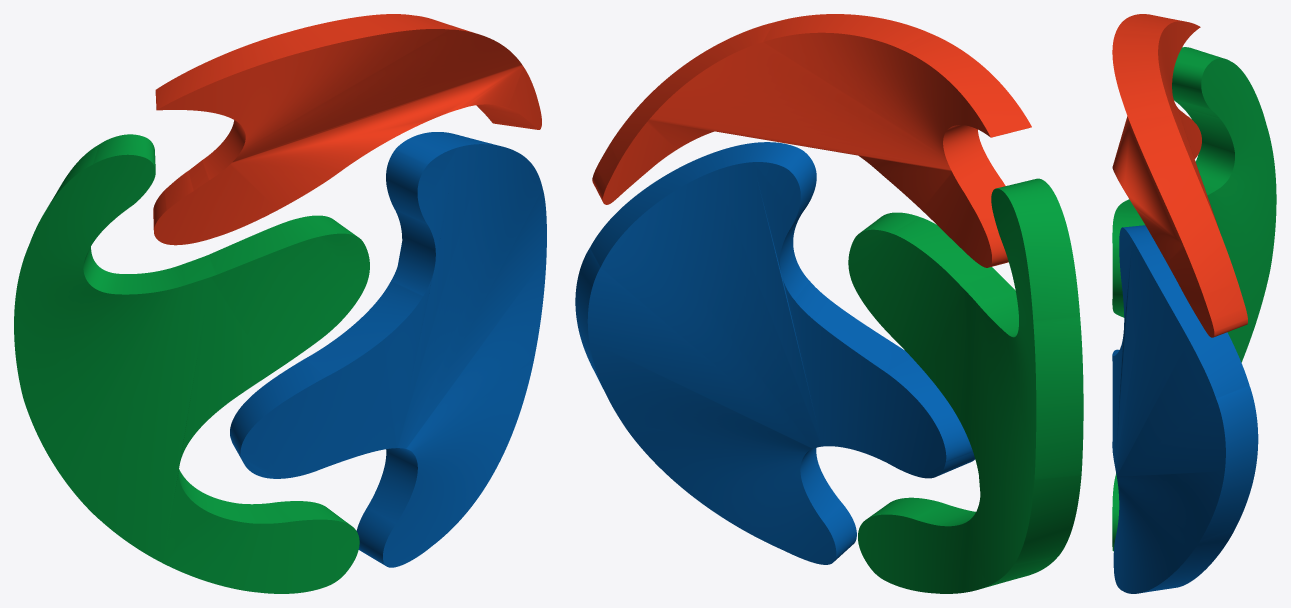
File: TestV.FBX
The picture shows the model from 3 angles, left to right: view 1: azimuth 30°, elevation 25°; view 2: azimuth 150°, elevation 25°; view 3: azimuth 270°, elevation 25°; orthographic projection. The views are drawn at different scales.
Visible parts, largest first — view 1: _U+B808_U+C774_U+C5B4 1.001; view 2: _U+B808_U+C774_U+C5B4 1.001; view 3: _U+B808_U+C774_U+C5B4 1.001.
Part boxes in pixels (x1=…): _U+B808_U+C774_U+C5B4 1.001: x1=14, y1=14, x2=546, y2=593; _U+B808_U+C774_U+C5B4 1.001: x1=575, y1=14, x2=1083, y2=593; _U+B808_U+C774_U+C5B4 1.001: x1=1112, y1=14, x2=1276, y2=593.
Size of the model in its own units: 49.82 by 49.49 by 14.38.
